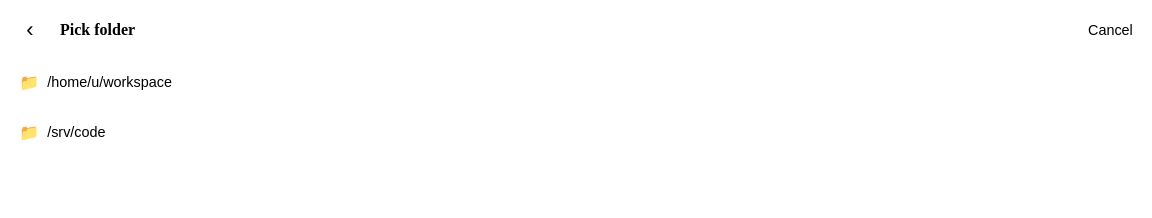
Scenario: FolderPicker (multiple roots) › returns to the roots list on Back from a root
Click the button "📁 /srv/code" at (76, 132), box 8,110 -> 1144,154
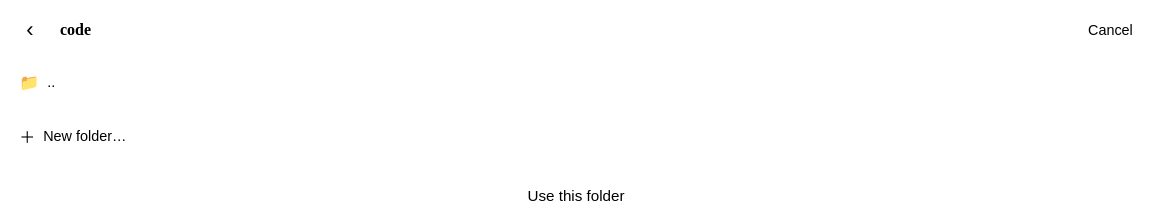
Click the button named "back" at (30, 30), box 8,8 -> 52,52
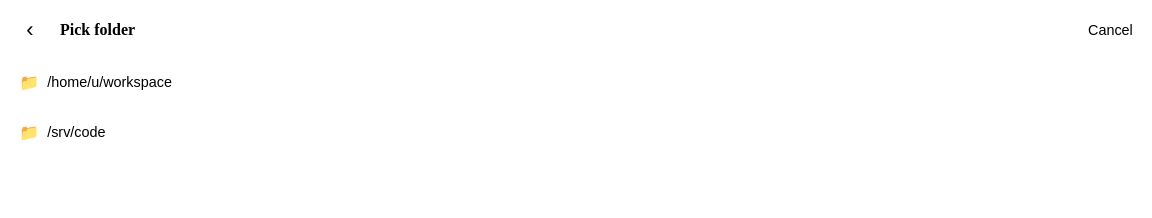
expect the button "📁 /home/u/workspace" is shown: met, box 8,60 -> 1144,104
